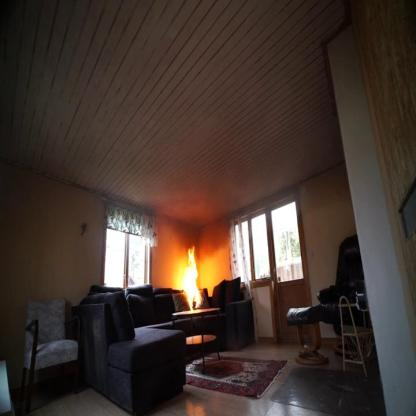fire: (180, 245, 204, 314)
